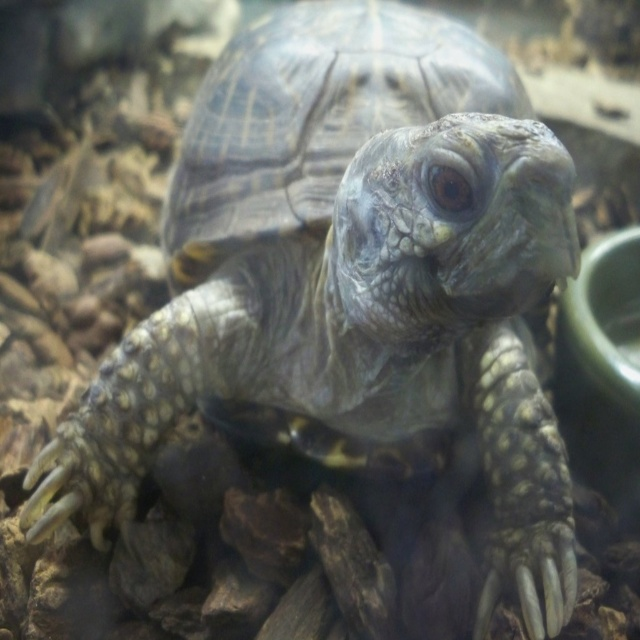Sea turtle: (18, 1, 582, 639)
